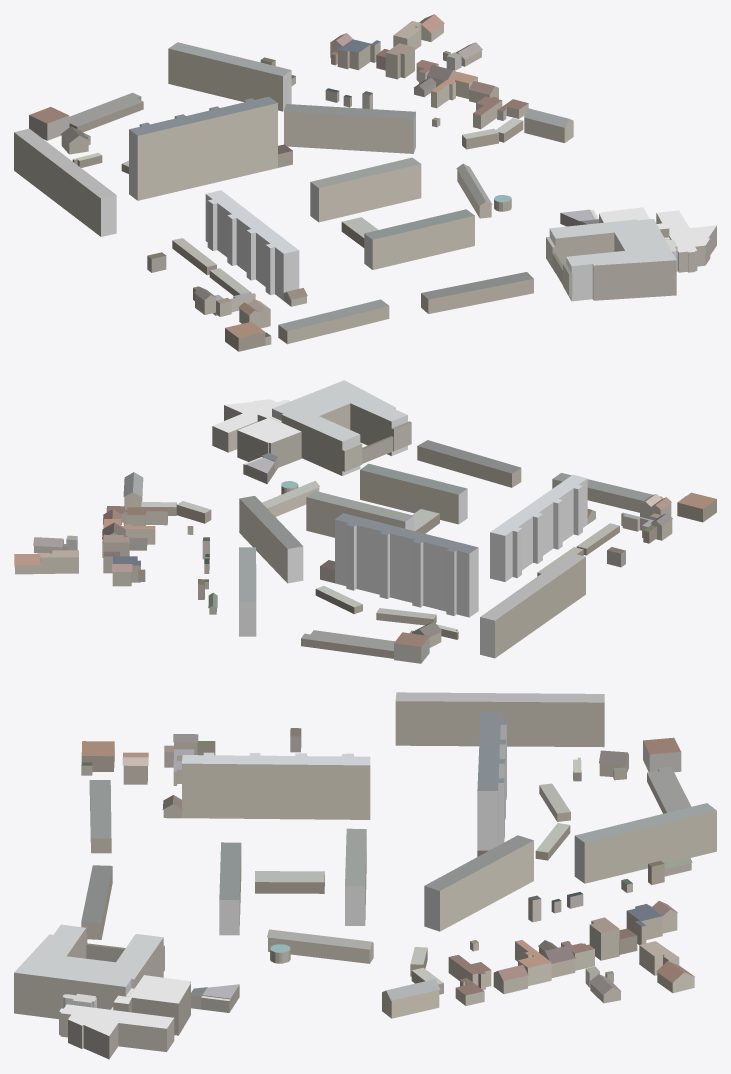
3 renders of one model, top to bottom at view 1: azimuth 30°, elevation 25°; view 2: azimuth 150°, elevation 25°; view 3: azimuth 270°, elevation 25°, orthographic. The views are drawn at different scales.
Parts seen in each view (by area): view 1: tuile; view 2: tuile; view 3: tuile.
Boxes of the visible parts, left/top/right/bottom form: tuile: left=14, top=14, right=716, bottom=351; tuile: left=14, top=380, right=716, bottom=663; tuile: left=14, top=692, right=716, bottom=1059.
Size of the model in its own units: 268 by 49.91 by 285.
